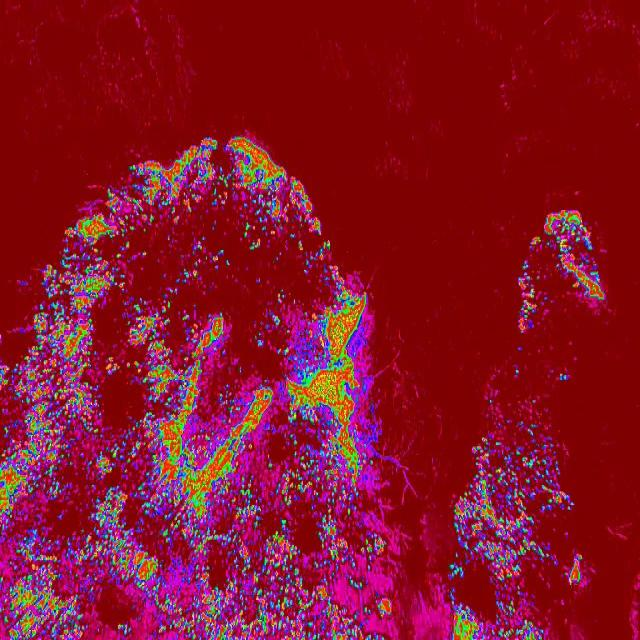fire: (0, 360, 394, 640), (26, 264, 367, 360), (451, 422, 573, 578), (64, 198, 330, 262), (523, 208, 606, 300), (105, 161, 306, 198), (446, 600, 544, 640), (177, 136, 270, 160), (517, 264, 543, 331), (561, 558, 587, 590)
